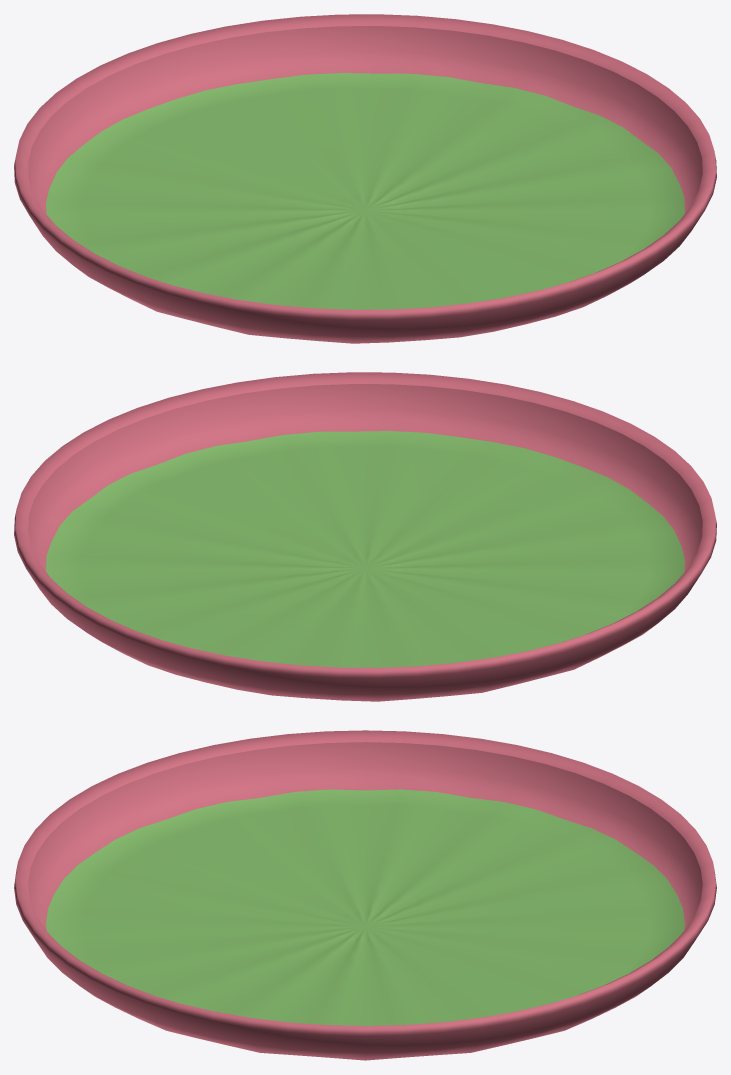
The model's file is seerose_blatt.glb.
3 renders of one model, top to bottom at view 1: azimuth 30°, elevation 25°; view 2: azimuth 150°, elevation 25°; view 3: azimuth 270°, elevation 25°, orthographic.
Visible parts, largest first — view 1: seerose_blatt_lod0; view 2: seerose_blatt_lod0; view 3: seerose_blatt_lod0.
Part boxes in pixels (x1,y1,x2,y2): seerose_blatt_lod0: [14, 14, 716, 343]; seerose_blatt_lod0: [14, 372, 716, 701]; seerose_blatt_lod0: [14, 730, 716, 1060].
Size of what is drawn, in the model's own units: 1.98 by 0.155 by 1.98.
